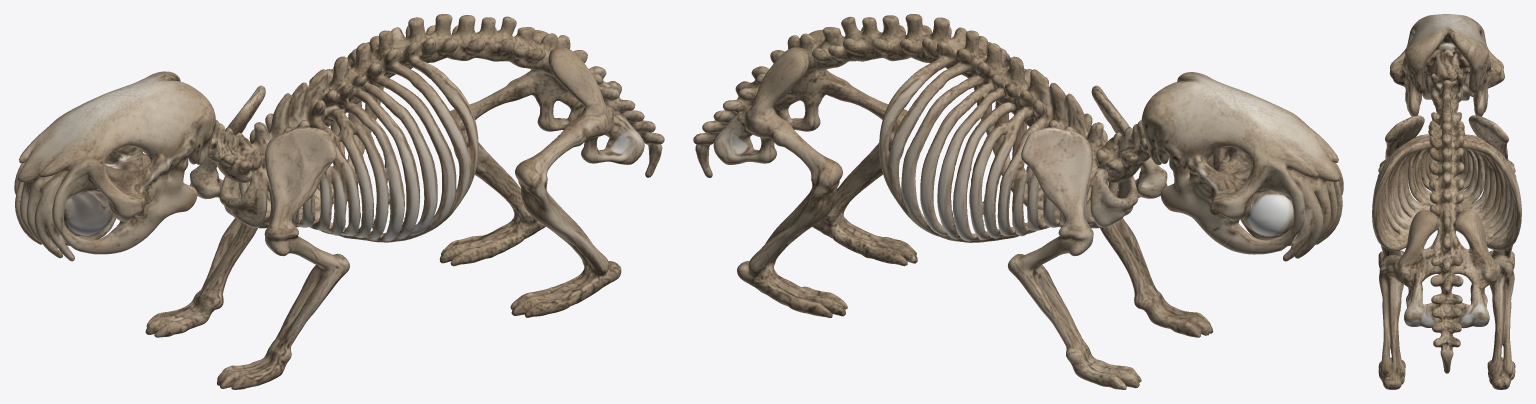
File: huesos.glb
3 renders of one model, left to right at view 1: azimuth 30°, elevation 25°; view 2: azimuth 150°, elevation 25°; view 3: azimuth 270°, elevation 25°, orthographic. The views are drawn at different scales.
Visible parts, largest first — view 1: world; view 2: world; view 3: world.
Boxes of the visible parts, x1,y1,x2,y2 form: world: (14, 14, 664, 389); world: (693, 14, 1343, 389); world: (1372, 14, 1521, 389).
Bounding box in the file's own units: 1 × 0.4286 × 0.266.
Materials: 1 (1 with a texture image).
